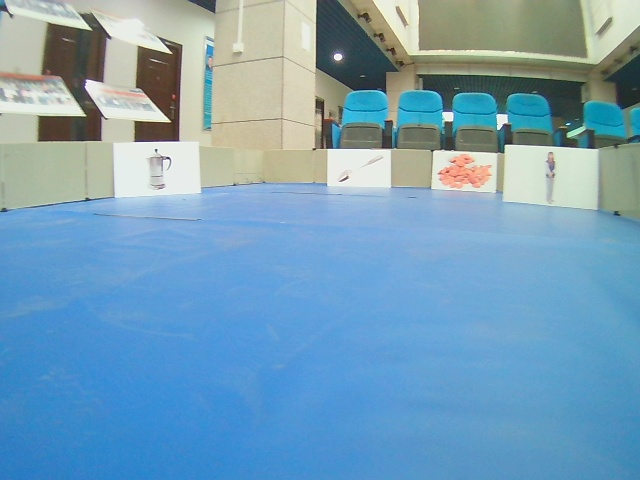dish: (111, 142, 202, 200), (326, 147, 392, 189)
food: (431, 150, 498, 195)
person: (504, 145, 599, 210)
